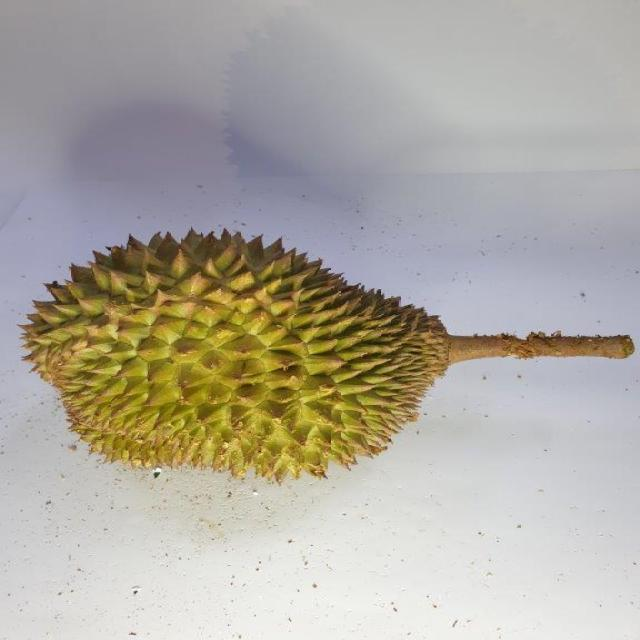mature: (21, 226, 453, 484)
